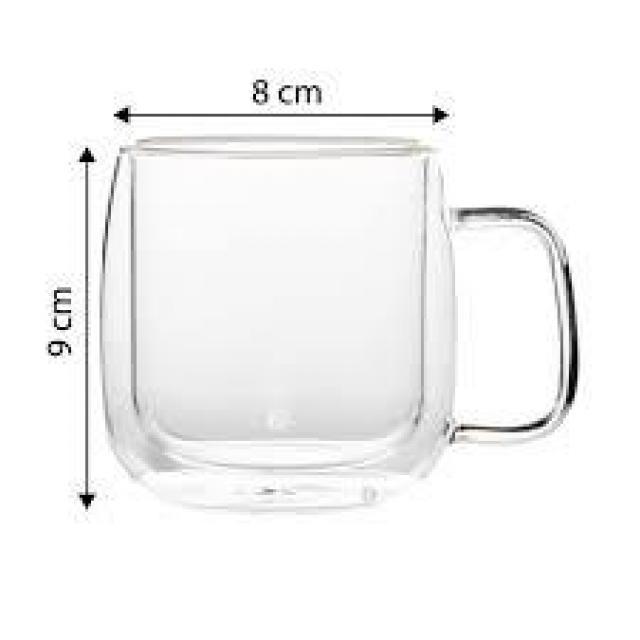non-organic waste: (95, 130, 590, 519)
